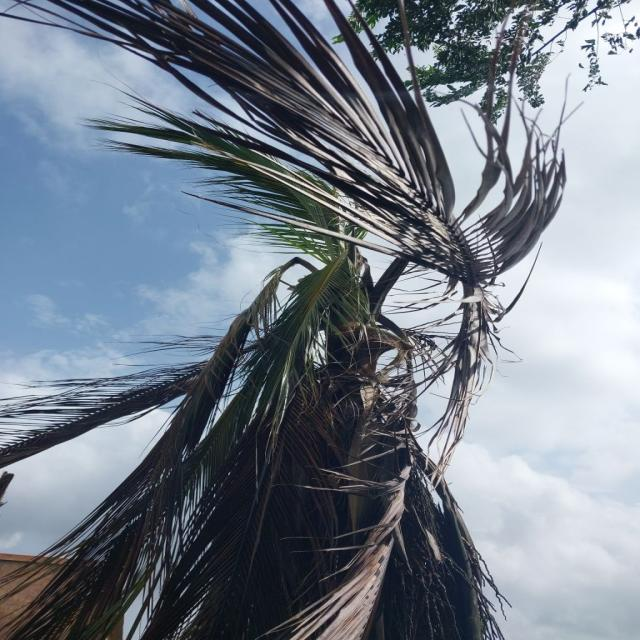bud root dropping: (3, 229, 502, 640)
